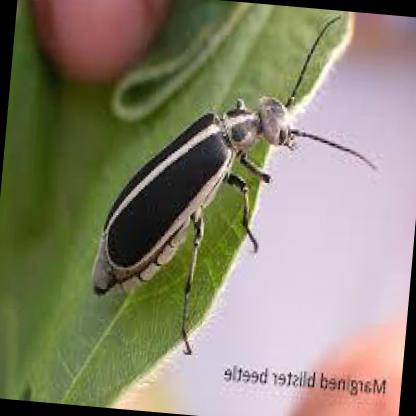blister beetle: (89, 16, 378, 294)
